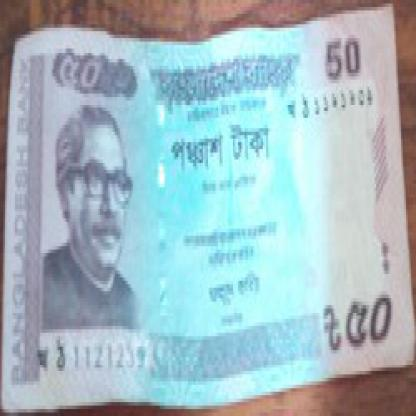Fifty taka: (162, 128, 294, 184), (331, 302, 414, 354), (314, 42, 372, 104), (48, 45, 115, 97)
